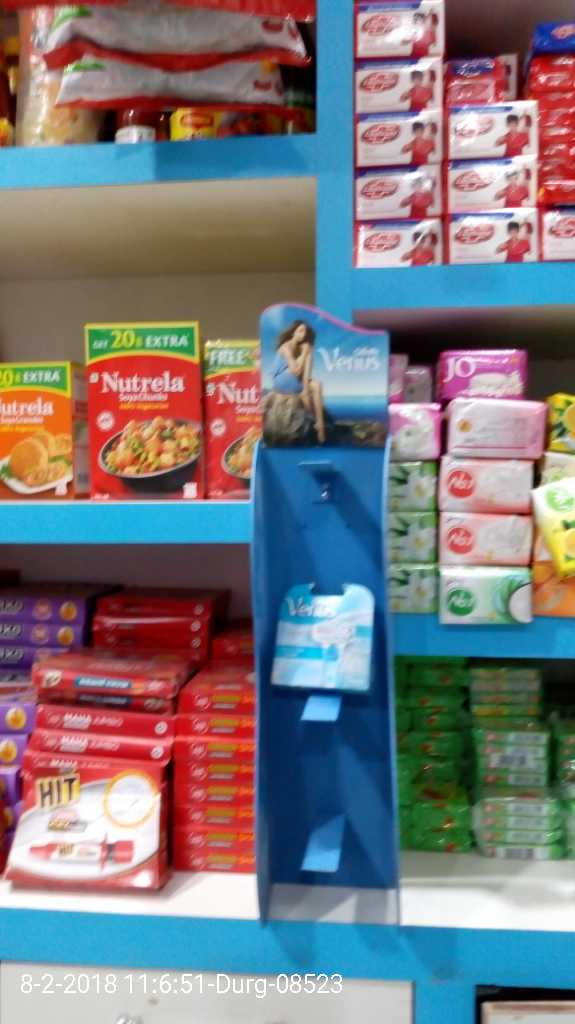venus: (270, 572, 377, 697)
